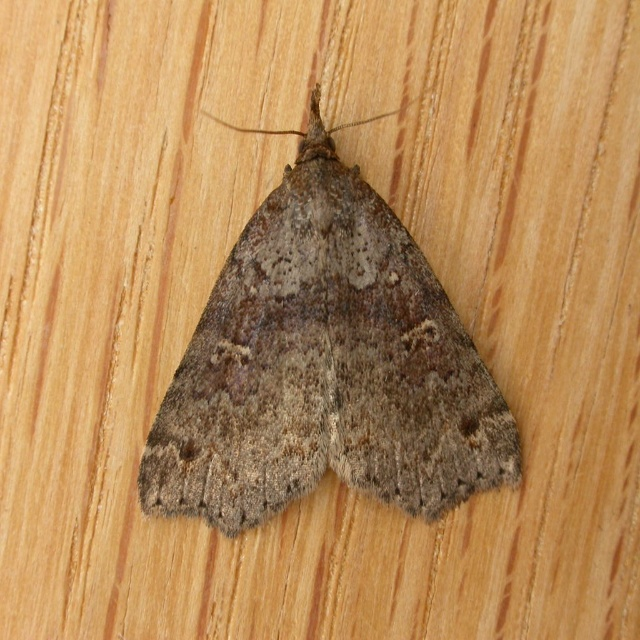Moths and butterflies: (135, 78, 528, 546)
